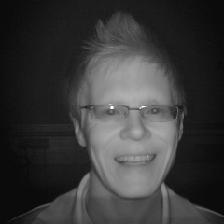happy: (60, 20, 203, 205)
